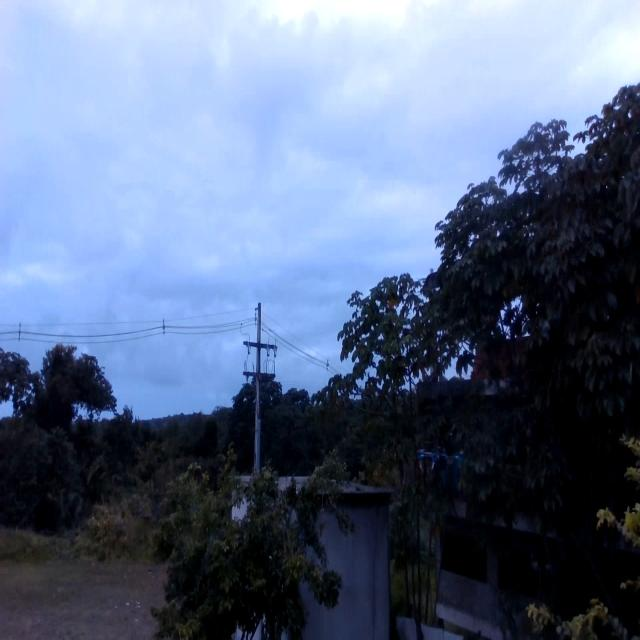-uav-: (418, 434, 462, 485)
